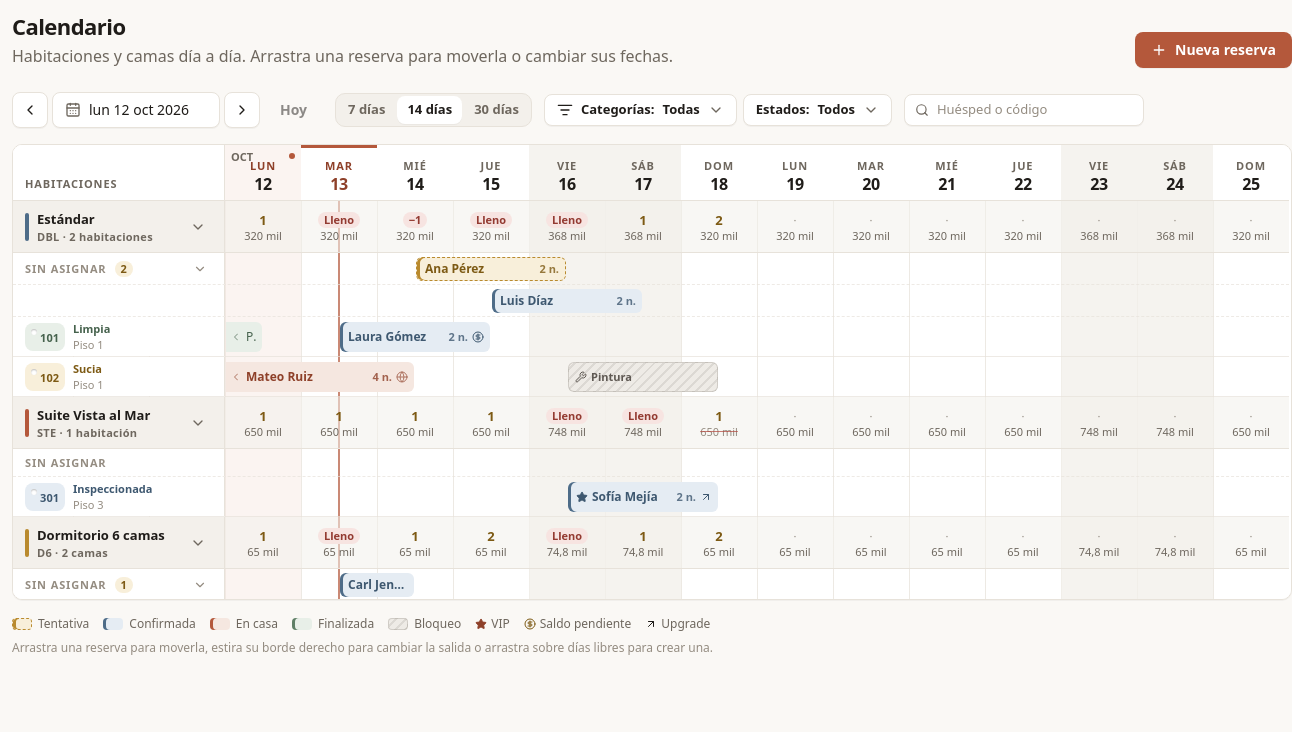
calendar toolbar › moves a week at a time, jumps back to today and asks for each range
Step 1. Click the button named "Semana siguiente" → {"x": 242, "y": 110}, box [224,92,260,128]
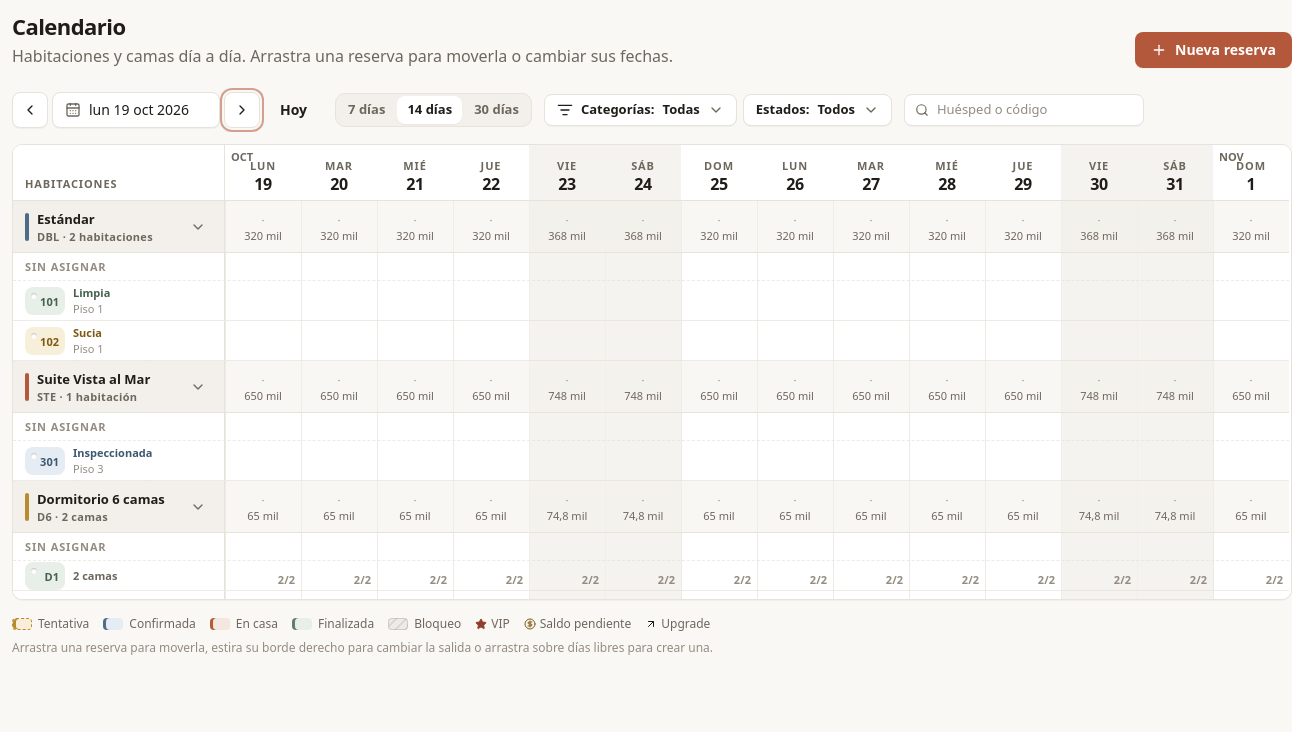
Result: the table named "Calendario de reservas del 19 oct – 1 nov 2026" is shown
Step 2. Click the button named "Semana anterior" → {"x": 30, "y": 110}, box [12,92,48,128]
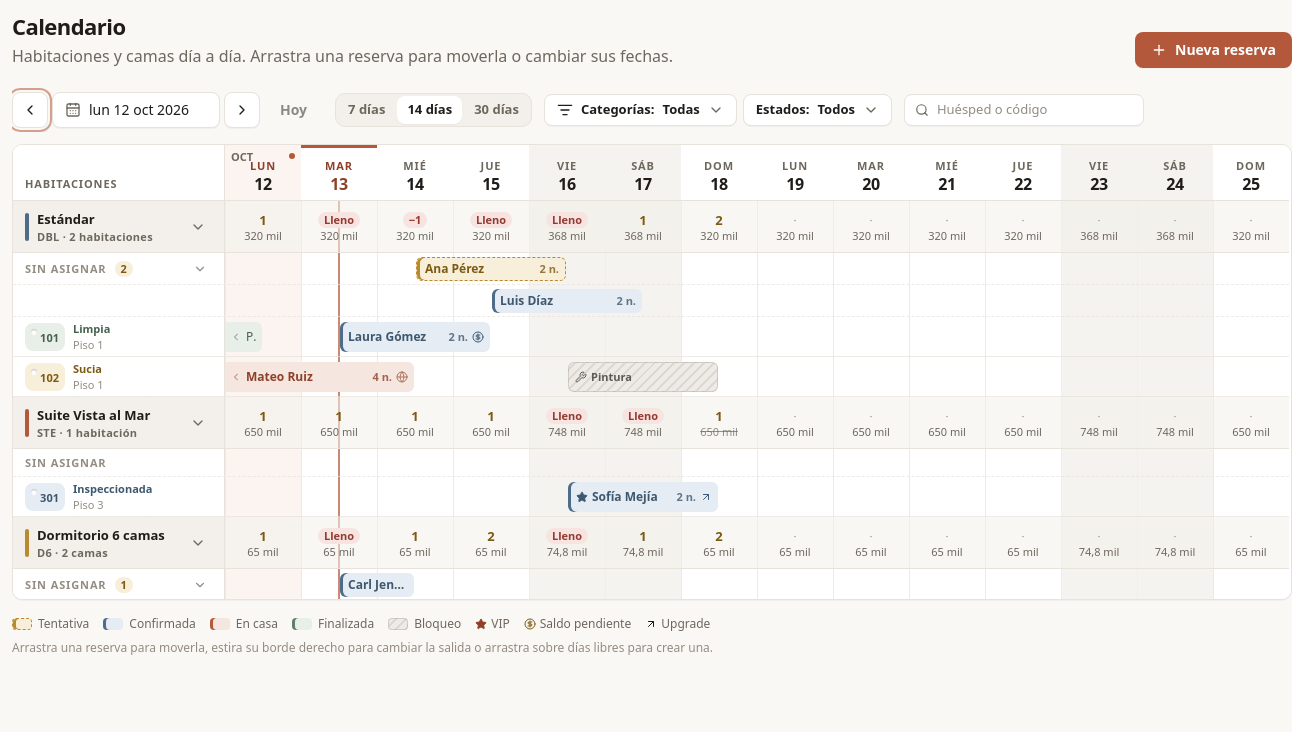
Step 3. Click the button named "Semana anterior" → {"x": 30, "y": 110}, box [12,92,48,128]
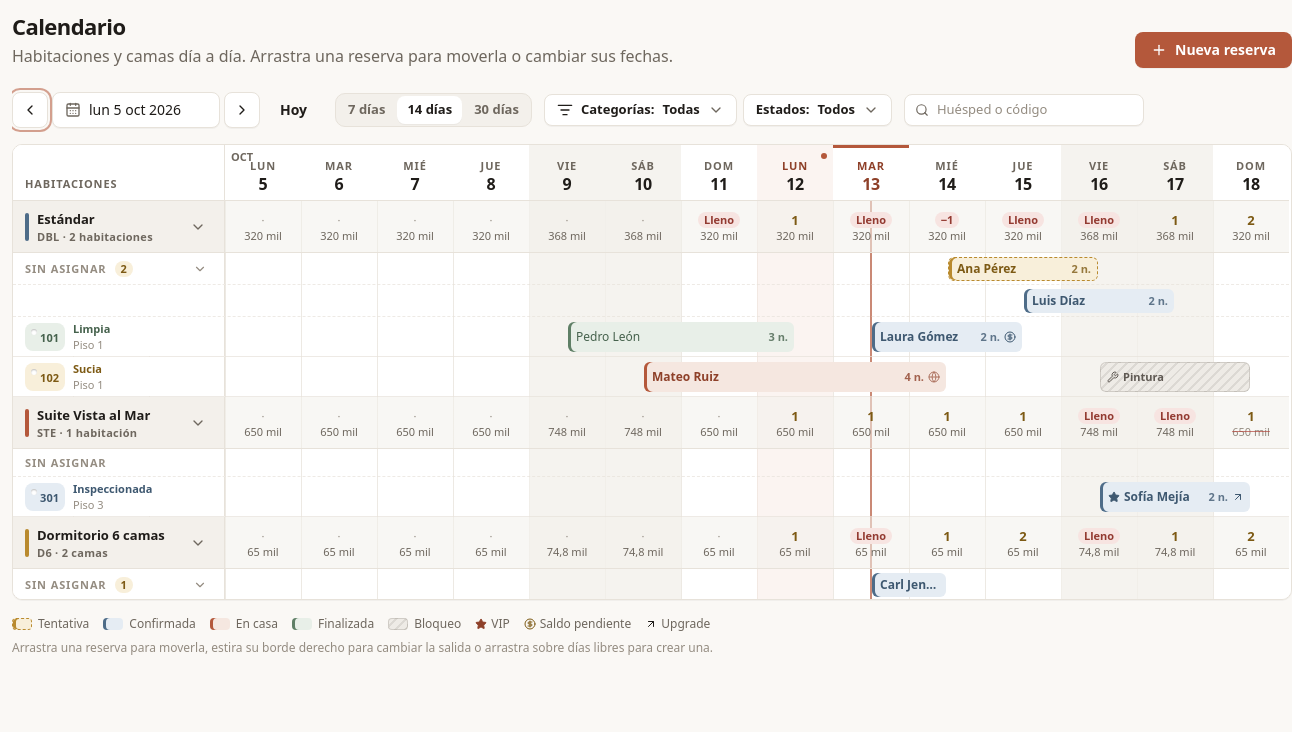
Result: the table named "Calendario de reservas del 5–18 oct 2026" is shown
Step 4. Click the button "Hoy" → {"x": 294, "y": 110}, box [264,92,323,128]
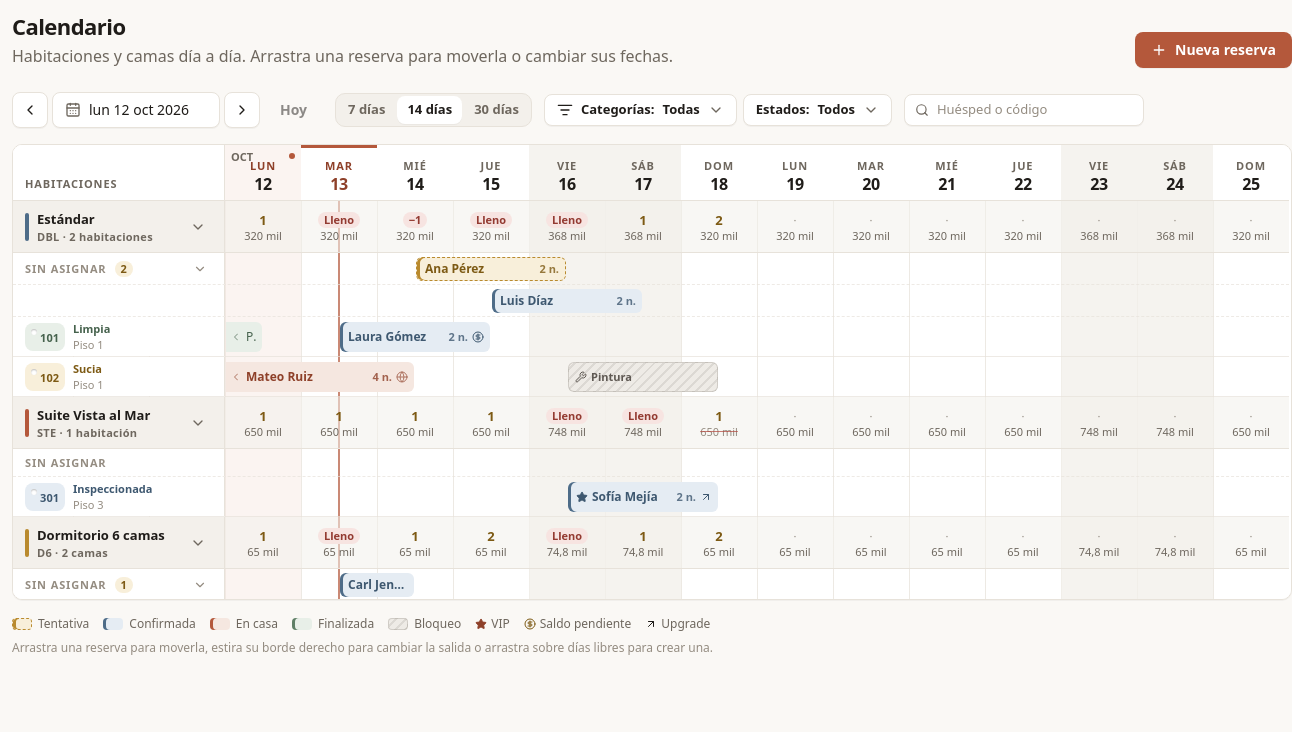
Result: the table named "Calendario de reservas del 12–25 oct 2026" is shown
Result: the button "Hoy" is disabled at [264,92,323,128]
